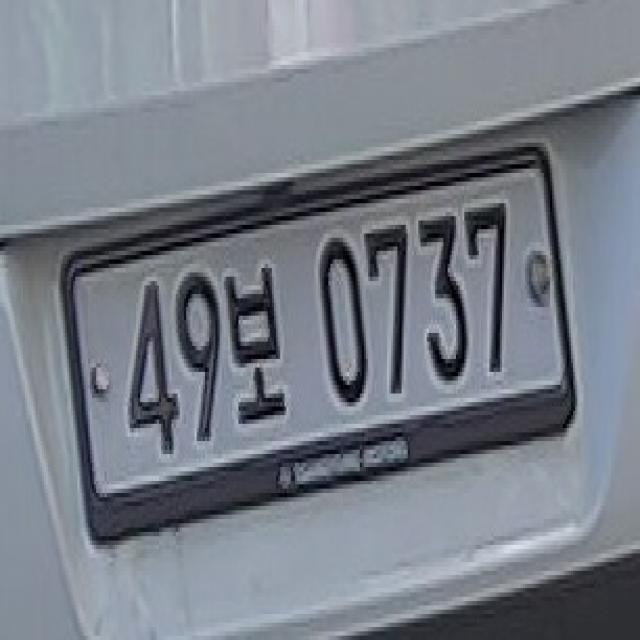0: (314, 237, 366, 415)
3: (417, 202, 463, 391)
4: (128, 266, 174, 468)
7: (466, 189, 512, 373), (370, 209, 413, 403)
9: (176, 264, 220, 450)
bo: (226, 250, 296, 434)
license_plate: (45, 112, 600, 591)
